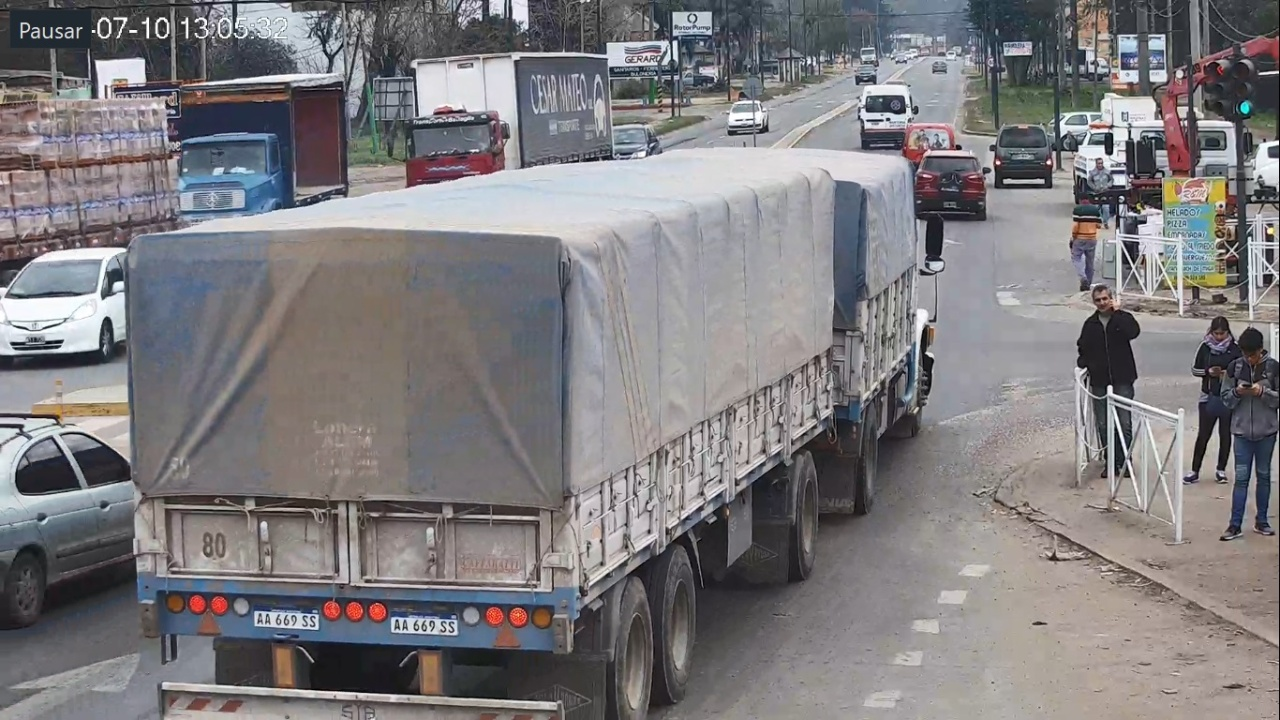traffic light: (1233, 57, 1255, 117)
truck: (119, 148, 944, 720)
